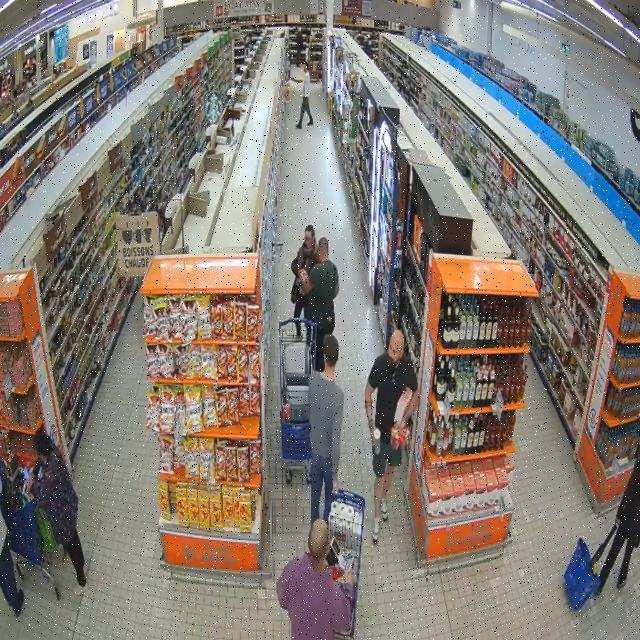article: (393, 386, 413, 426), (398, 427, 412, 446), (390, 429, 399, 450), (374, 429, 381, 455)
bags: (332, 265, 339, 299)
hands: (344, 572, 355, 587), (369, 423, 376, 446), (24, 476, 34, 491), (394, 420, 406, 432), (332, 480, 340, 494), (299, 269, 308, 280), (615, 515, 620, 527)
person: (365, 331, 418, 542), (277, 520, 353, 639), (35, 428, 86, 594), (309, 335, 344, 522), (598, 461, 639, 594), (301, 237, 339, 371), (0, 471, 24, 616), (292, 225, 317, 318)
